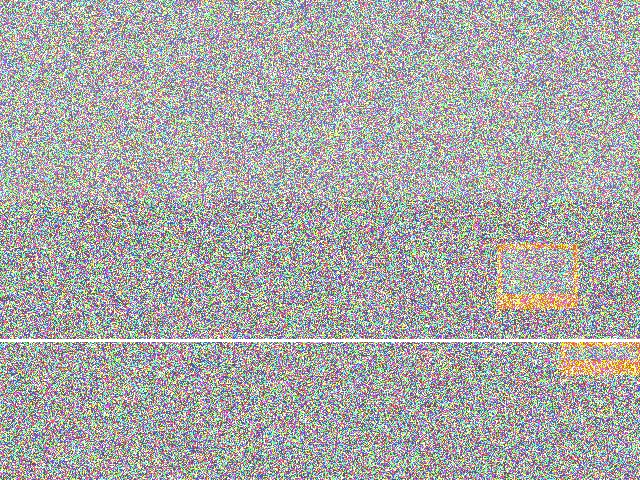motorcycle: (143, 148, 315, 229)
truck: (68, 230, 249, 337)
